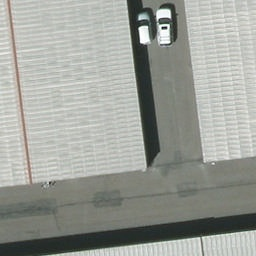car: (156, 9, 176, 48), (132, 10, 154, 45)
